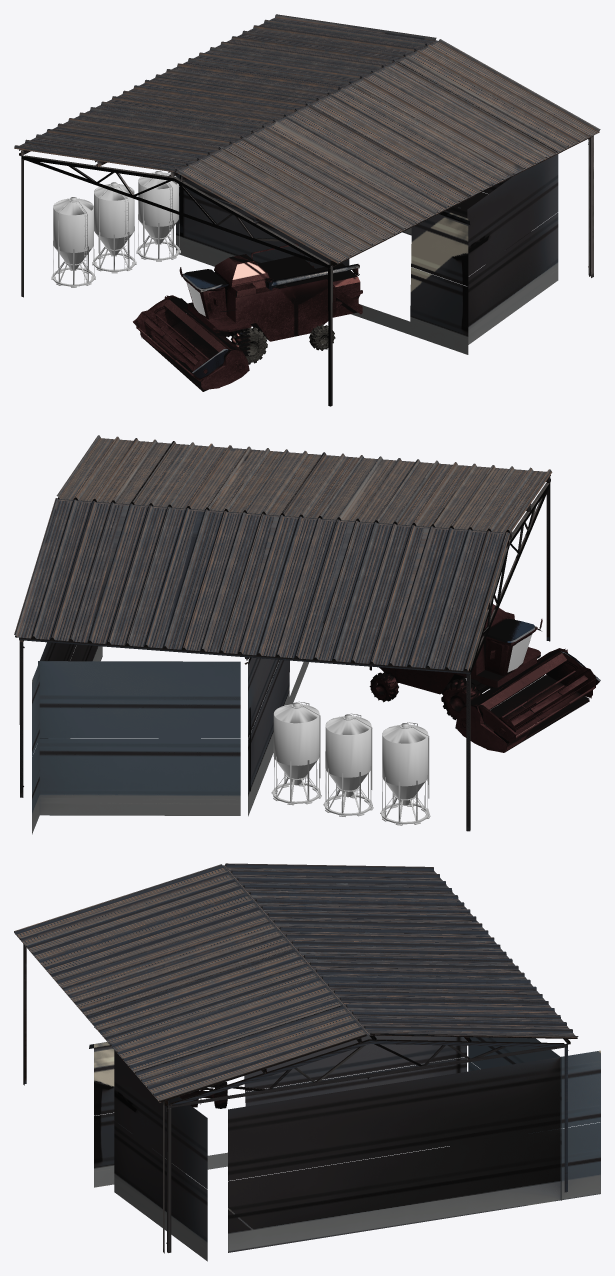
The model's file is Galpao.fbx.
The picture shows the model from 3 angles, top to bottom: view 1: azimuth 30°, elevation 25°; view 2: azimuth 150°, elevation 25°; view 3: azimuth 270°, elevation 25°; orthographic projection. The views are drawn at different scales.
Parts seen in each view (by area): view 1: Galpao Estrutura ok - Comb.001, Galpão Parede ok - Comb, Galpao Colheitadeira ok - AO.001, Galpao Estrutura ok - Comb, Silo1 - ok - AO, Silo3 - ok - AO, Silo2 - ok - AO, Galpao Colheitadeira ok - AO.003, Galpao Colheitadeira ok - AO.002; view 2: Galpao Estrutura ok - Comb.001, Galpão Parede ok - Comb, Galpao Colheitadeira ok - AO.001, Silo3 - ok - AO, Silo2 - ok - AO, Silo1 - ok - AO, Galpao Estrutura ok - Comb, Galpao Colheitadeira ok - AO.003; view 3: Galpao Estrutura ok - Comb.001, Galpão Parede ok - Comb, Galpao Estrutura ok - Comb.
Part boxes in pixels (x1=…): Galpao Estrutura ok - Comb.001: x1=14, y1=14, x2=600, y2=268; Galpão Parede ok - Comb: x1=176, y1=154, x2=558, y2=354; Galpao Colheitadeira ok - AO.001: x1=133, y1=243, x2=362, y2=391; Galpao Estrutura ok - Comb: x1=21, y1=135, x2=593, y2=406; Silo1 - ok - AO: x1=51, y1=197, x2=95, y2=287; Silo3 - ok - AO: x1=92, y1=182, x2=136, y2=273; Silo2 - ok - AO: x1=136, y1=171, x2=180, y2=261; Galpao Colheitadeira ok - AO.003: x1=183, y1=264, x2=359, y2=378; Galpao Colheitadeira ok - AO.002: x1=232, y1=324, x2=335, y2=364; Galpao Estrutura ok - Comb.001: x1=14, y1=435, x2=552, y2=787; Galpão Parede ok - Comb: x1=32, y1=642, x2=309, y2=834; Galpao Colheitadeira ok - AO.001: x1=369, y1=604, x2=599, y2=752; Silo3 - ok - AO: x1=323, y1=713, x2=373, y2=816; Silo2 - ok - AO: x1=271, y1=701, x2=321, y2=805; Silo1 - ok - AO: x1=380, y1=722, x2=430, y2=825; Galpao Estrutura ok - Comb: x1=19, y1=482, x2=550, y2=831; Galpao Colheitadeira ok - AO.003: x1=487, y1=619, x2=600, y2=681; Galpao Estrutura ok - Comb.001: x1=14, y1=863, x2=578, y2=1243; Galpão Parede ok - Comb: x1=94, y1=1035, x2=600, y2=1261; Galpao Estrutura ok - Comb: x1=23, y1=944, x2=567, y2=1253.
Size of the model in its own units: 2115 by 867 by 2237.
